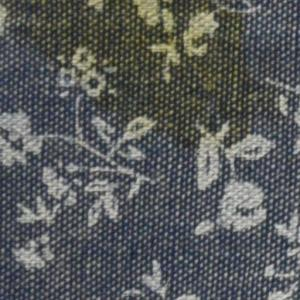Stain: (1, 1, 283, 161)
